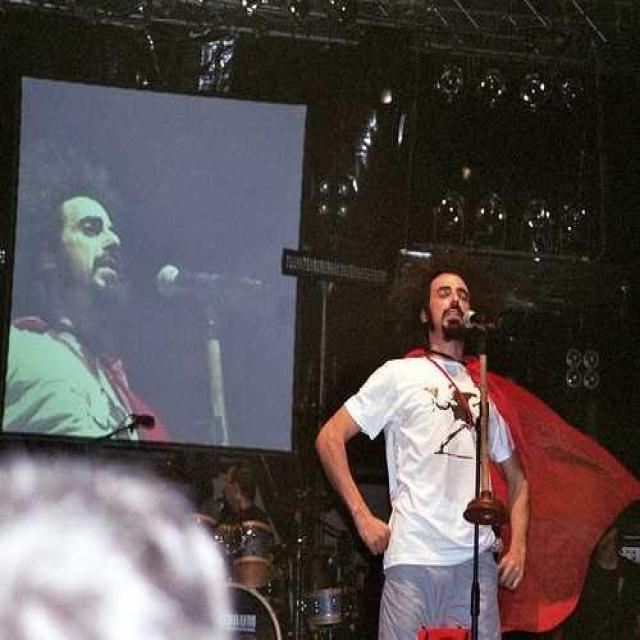microphone: (154, 265, 264, 303), (457, 308, 494, 332)
